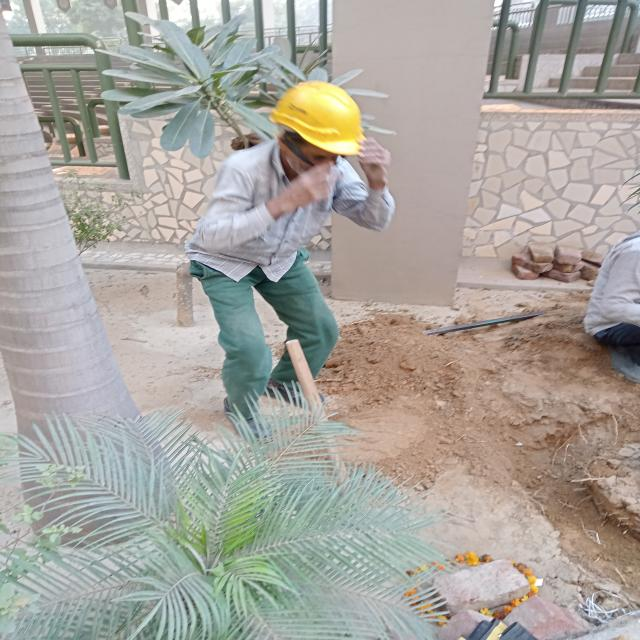no jacket: (179, 77, 396, 452)
